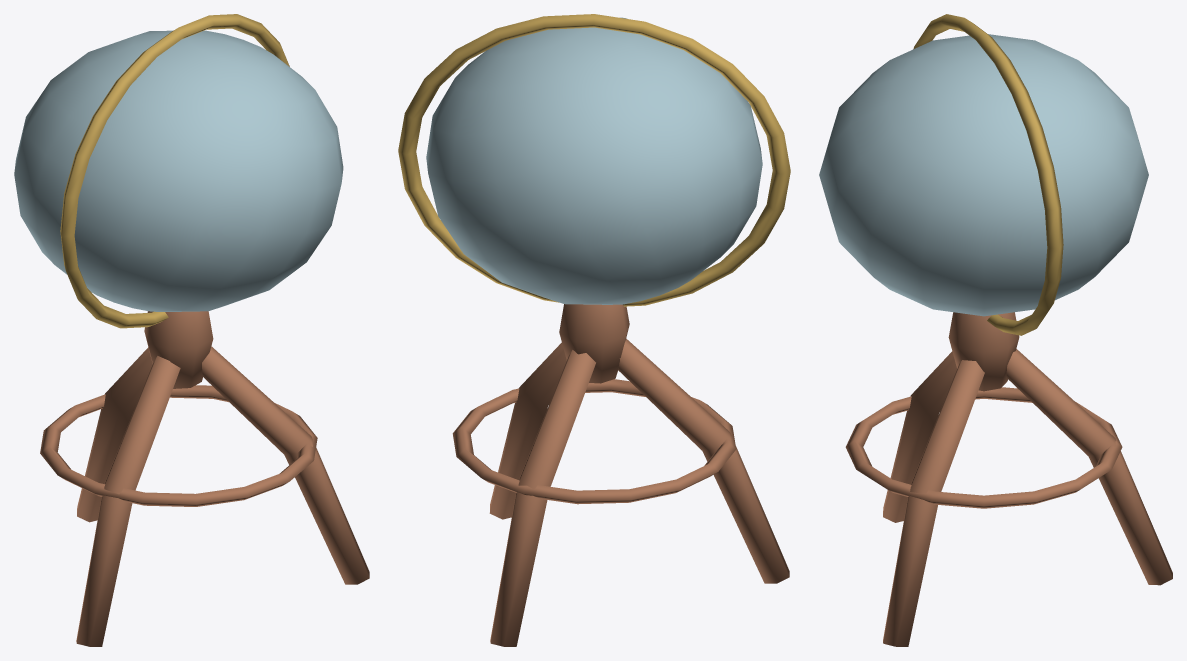
Rendered from globe_stand.glb.
3 views of the same model, side by side, from view 1: azimuth 30°, elevation 25°; view 2: azimuth 150°, elevation 25°; view 3: azimuth 270°, elevation 25° (orthographic). The views are drawn at different scales.
Visible parts, largest first — view 1: globe_stand; view 2: globe_stand; view 3: globe_stand.
Boxes of the visible parts, box(x1,y1,x2,y2) form: globe_stand: box(14, 14, 369, 646); globe_stand: box(398, 14, 790, 646); globe_stand: box(819, 14, 1172, 646).
Size of what is drawn, in the model's own units: 0.7 by 1.2 by 0.7.
